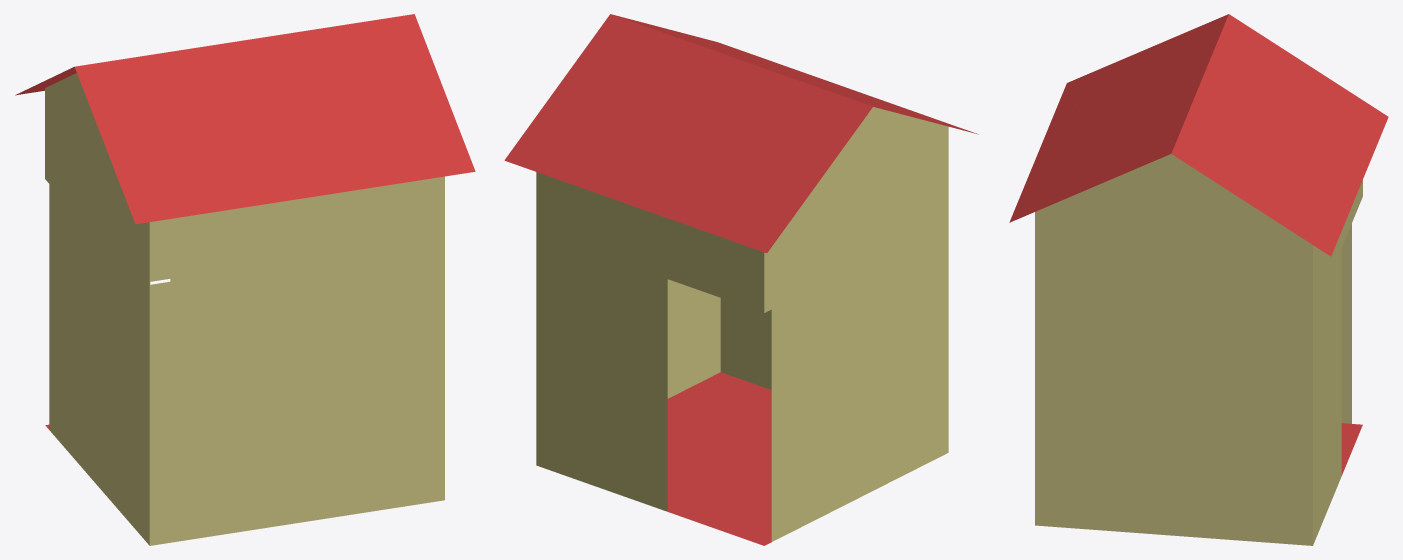
3 renders of one model, left to right at view 1: azimuth 30°, elevation 25°; view 2: azimuth 150°, elevation 25°; view 3: azimuth 270°, elevation 25°, orthographic. The views are drawn at different scales.
Bounding box in the file's own units: 13.03 × 12.78 × 14.54.
